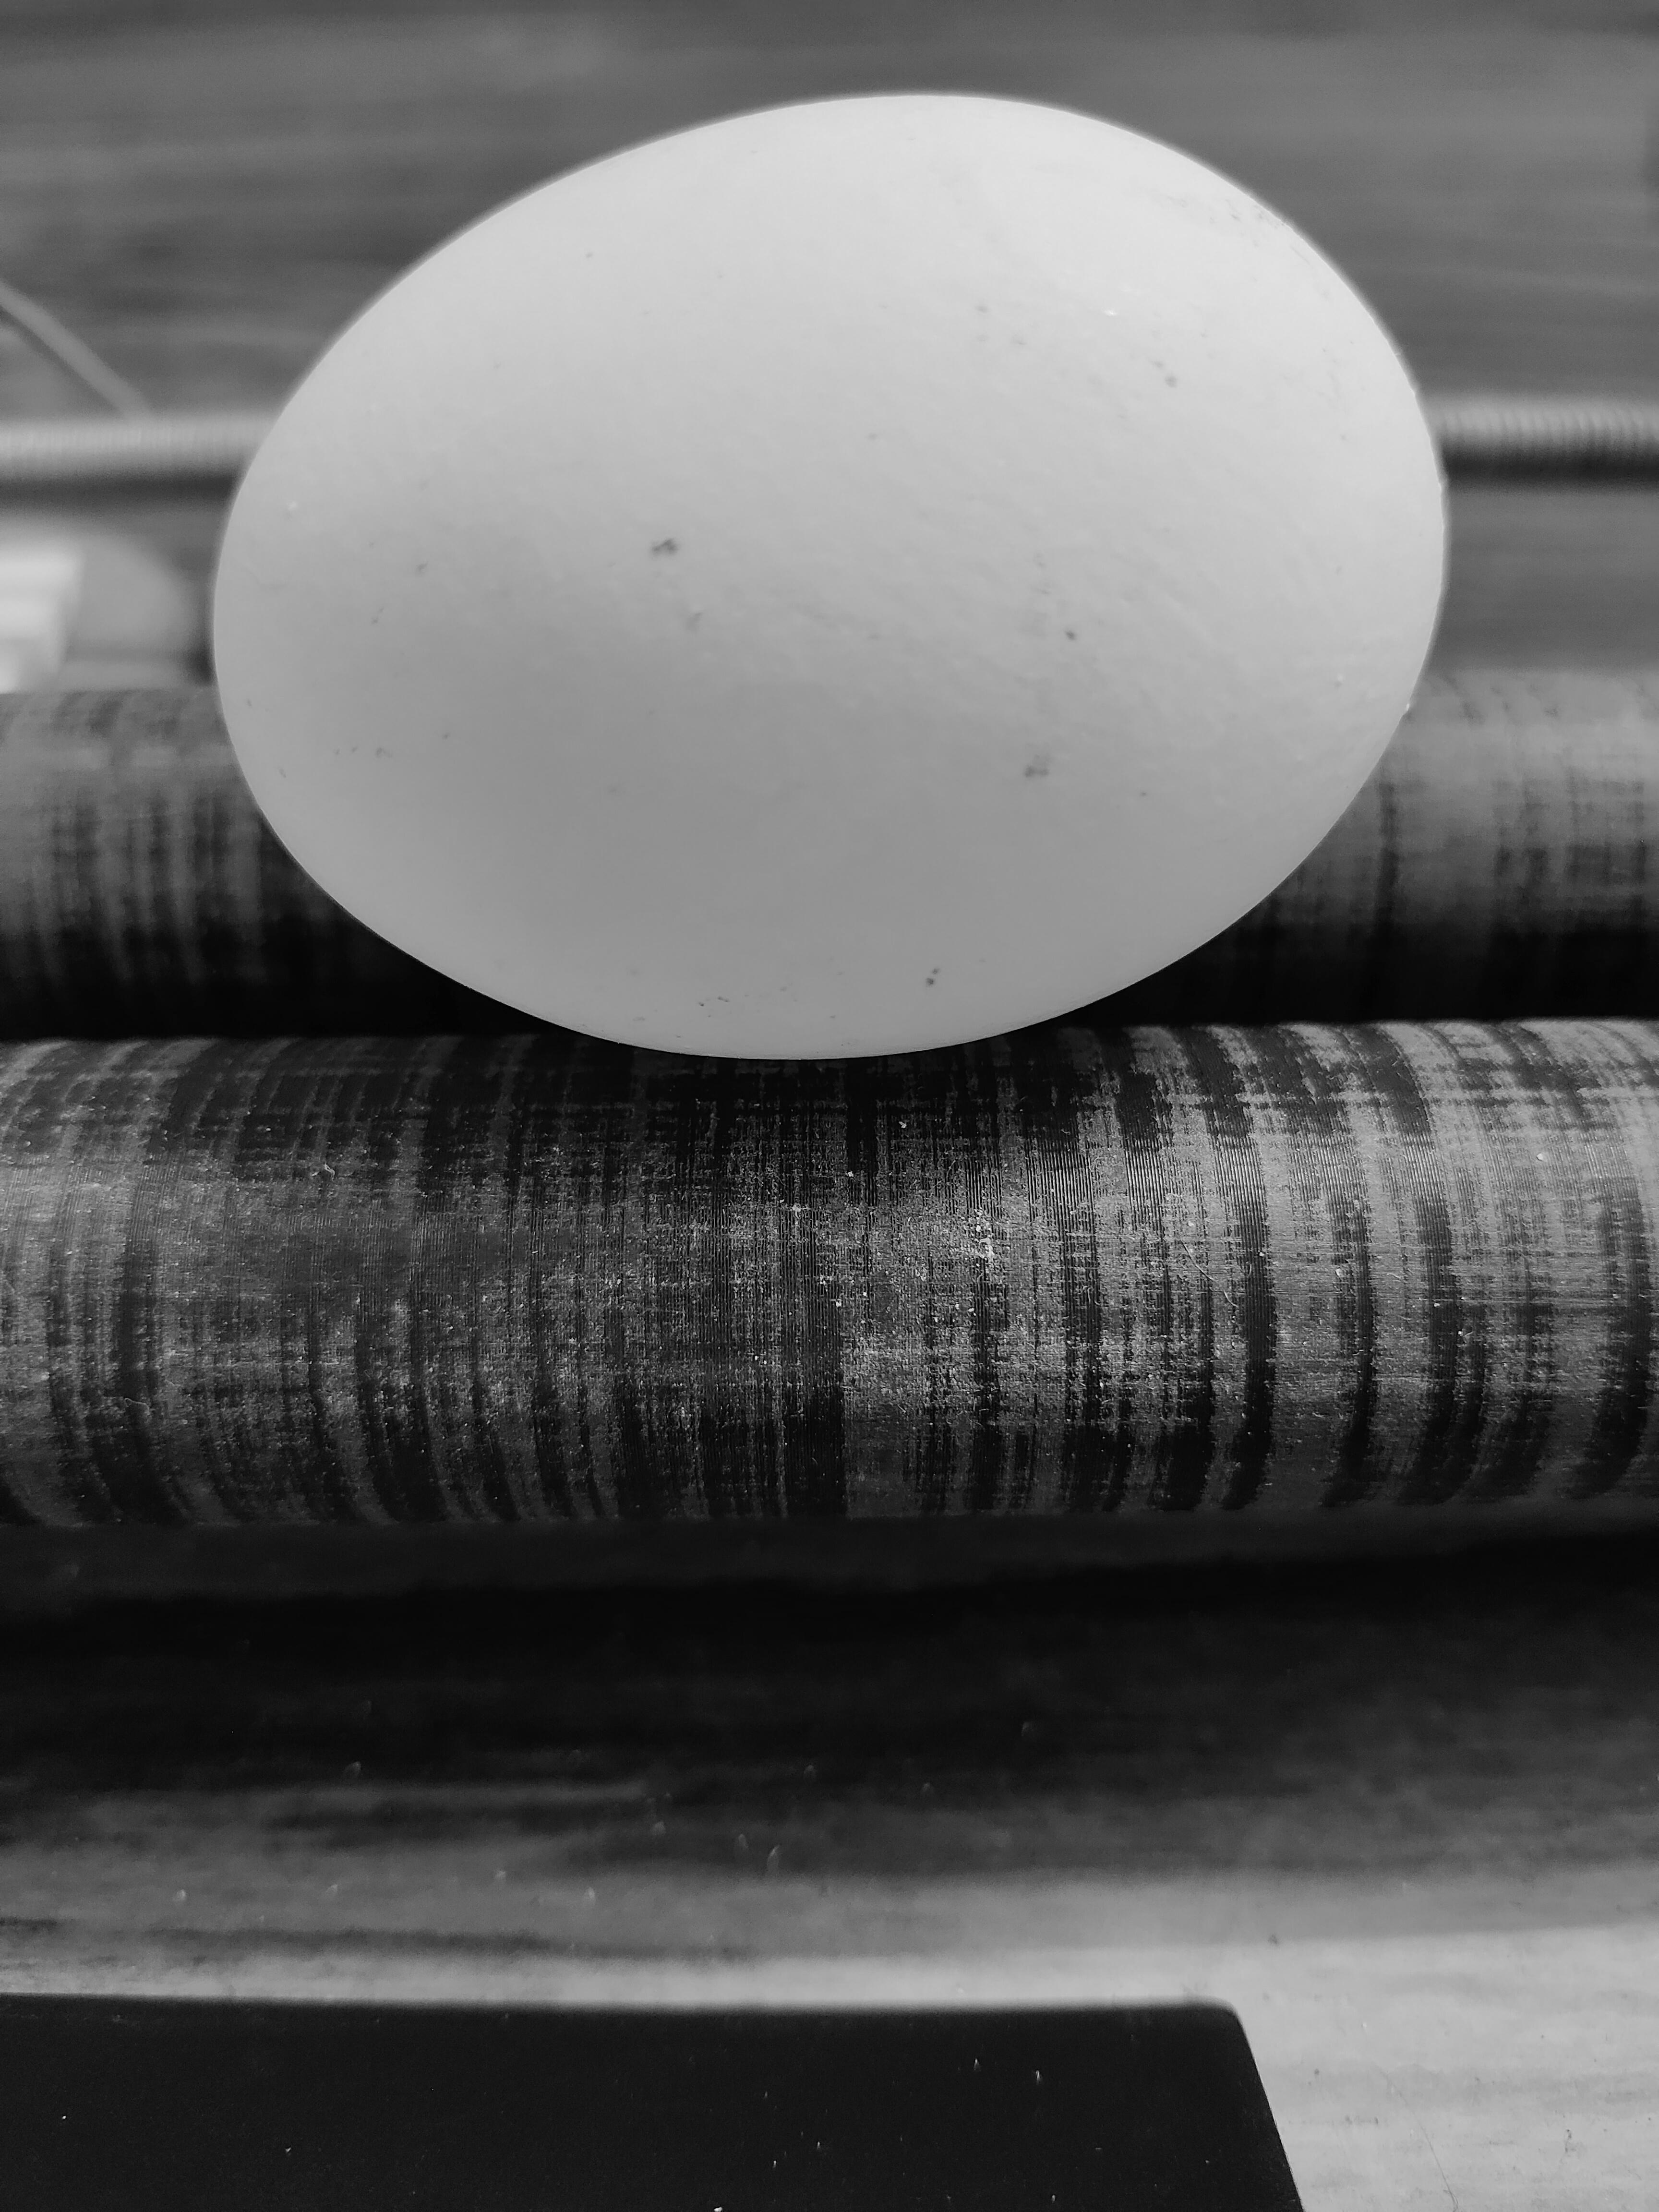telur: (192, 73, 1467, 1082)
